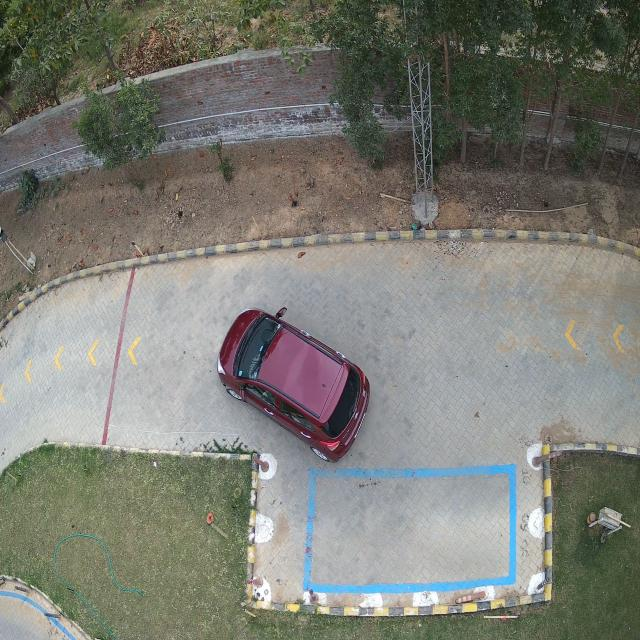car: (218, 308, 370, 462)
